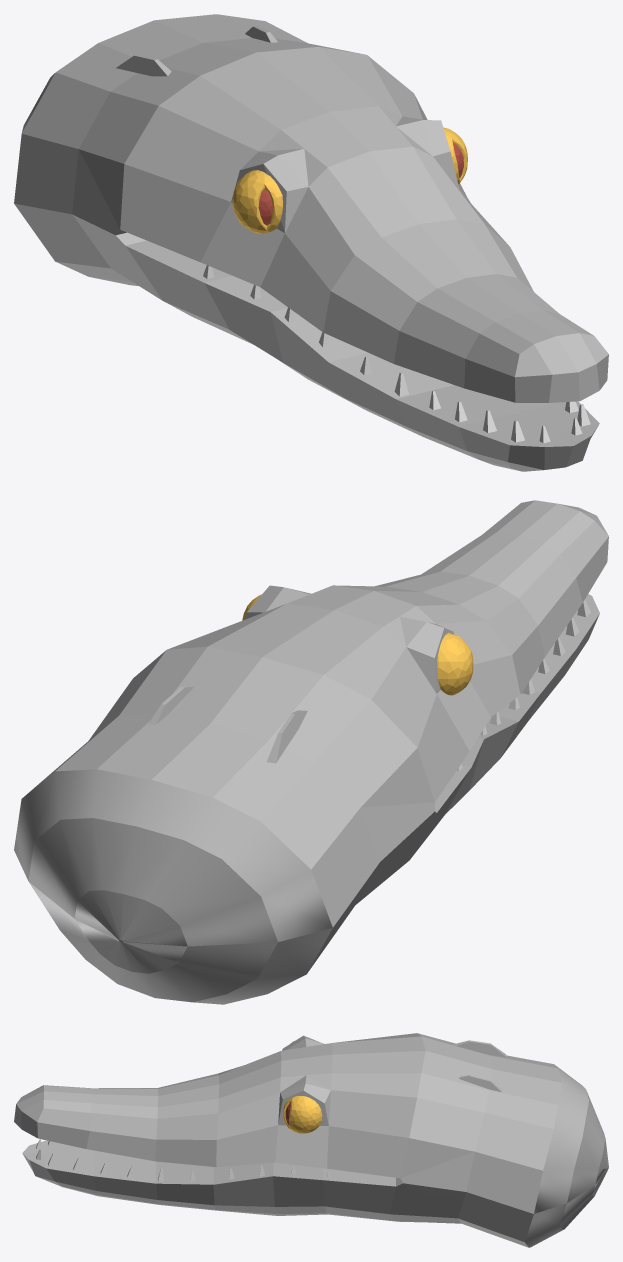
File: cabeca_cuca.fbx
The picture shows the model from 3 angles, top to bottom: view 1: azimuth 30°, elevation 25°; view 2: azimuth 150°, elevation 25°; view 3: azimuth 270°, elevation 25°; orthographic projection. The views are drawn at different scales.
Visible parts, largest first — view 1: BlackCaiman, Snake.001, Snake.002; view 2: BlackCaiman, Snake.001; view 3: BlackCaiman, Snake.002.
Boxes of the visible parts, x1,y1,x2,y2 form: BlackCaiman: (14, 14, 608, 471); Snake.001: (232, 170, 282, 233); Snake.002: (443, 127, 467, 184); BlackCaiman: (14, 500, 608, 1004); Snake.001: (437, 632, 473, 695); BlackCaiman: (14, 1033, 608, 1247); Snake.002: (283, 1096, 322, 1133).
Bounding box in the file's own units: 165 × 140 × 410.
